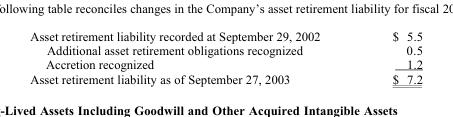table: (29, 28, 421, 85)
table column: (29, 28, 355, 85), (355, 28, 421, 85)
table row: (29, 70, 421, 85), (29, 28, 421, 42), (29, 42, 421, 56), (29, 56, 421, 70)
